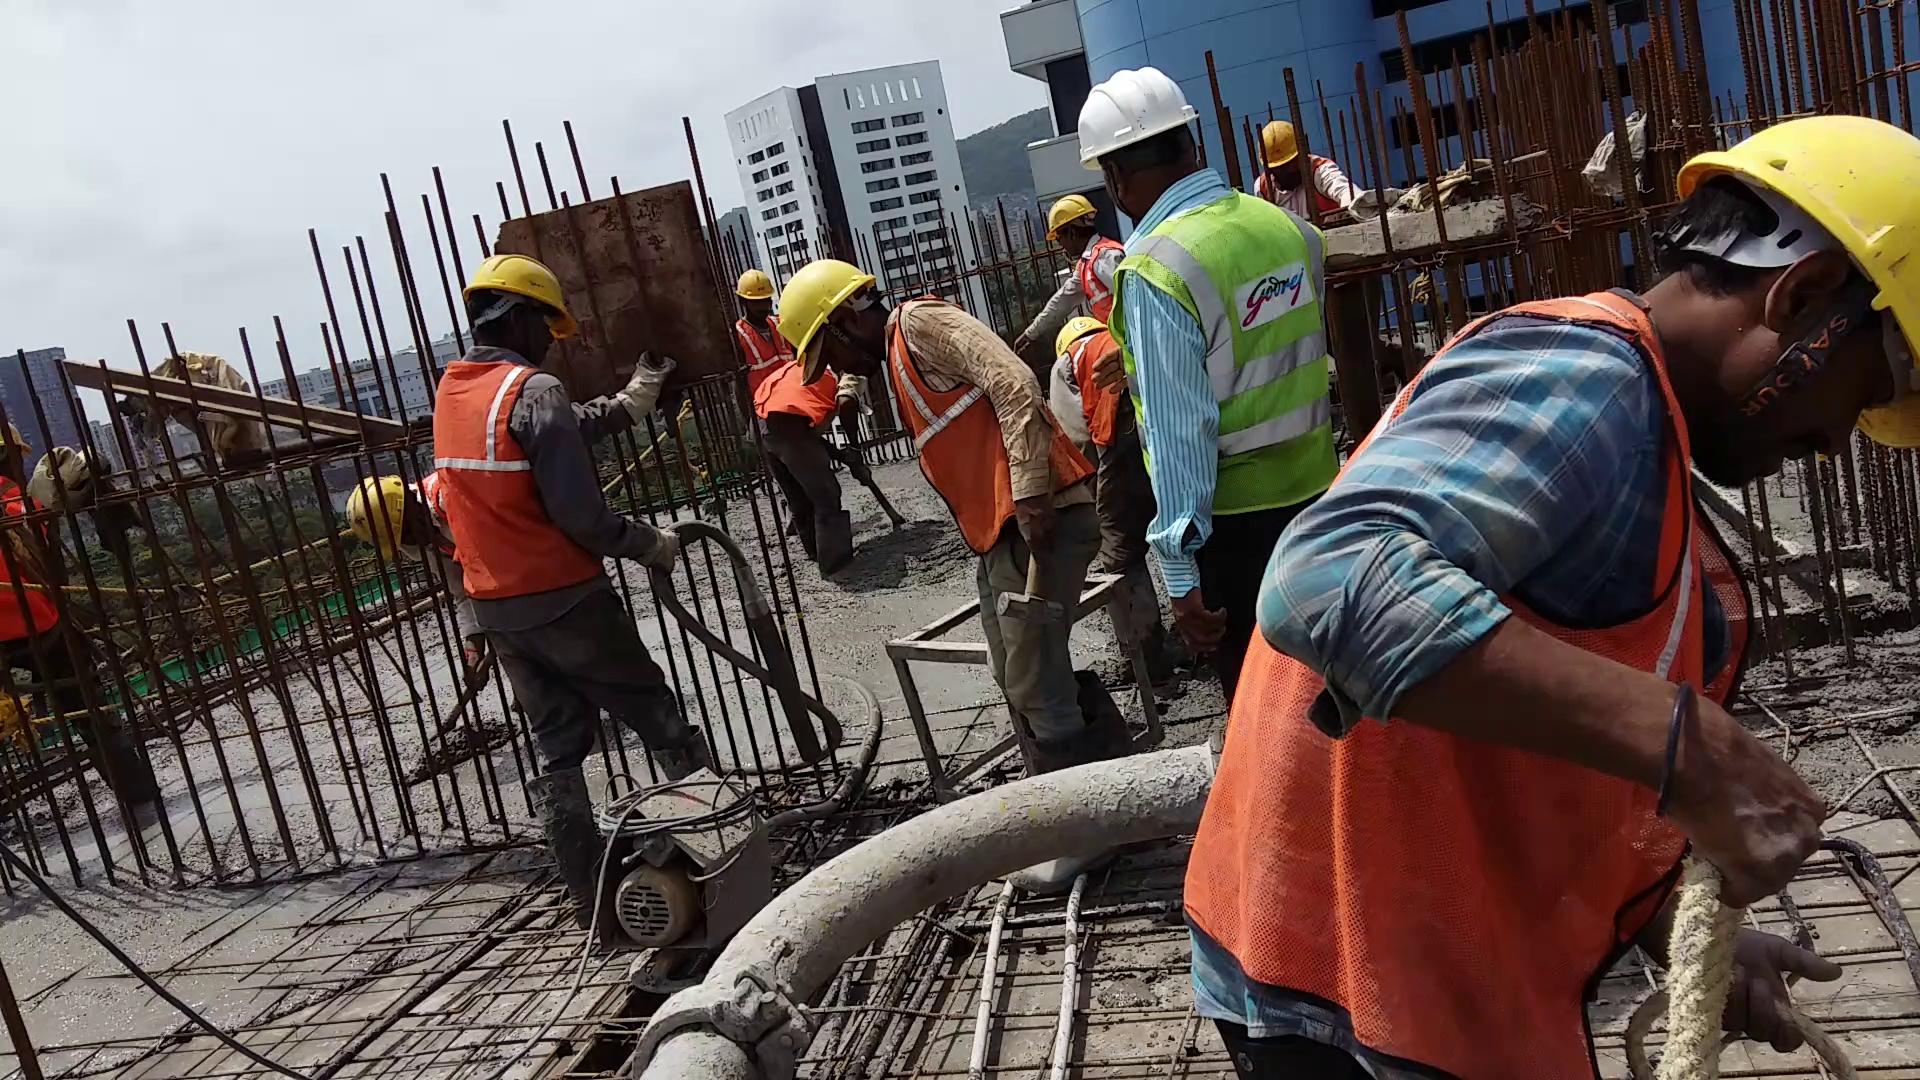SAFE: (1232, 107, 1920, 1063), (1063, 58, 1338, 525), (777, 251, 1120, 568), (425, 247, 615, 621)
